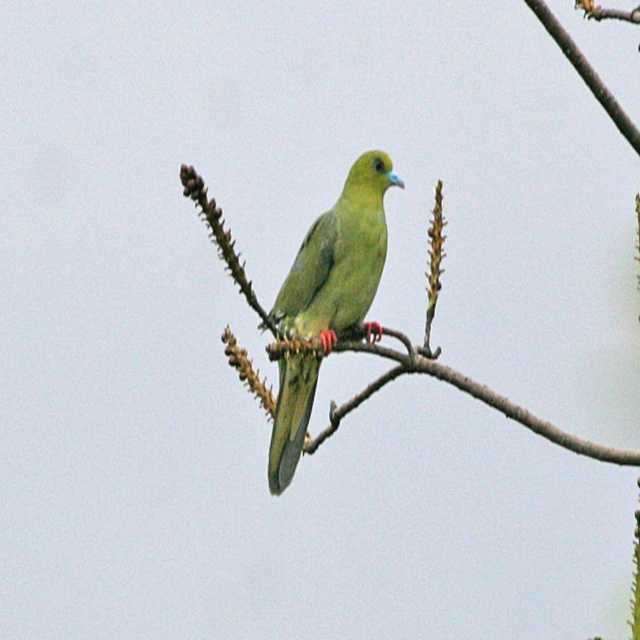Parrot: (269, 147, 407, 500)
